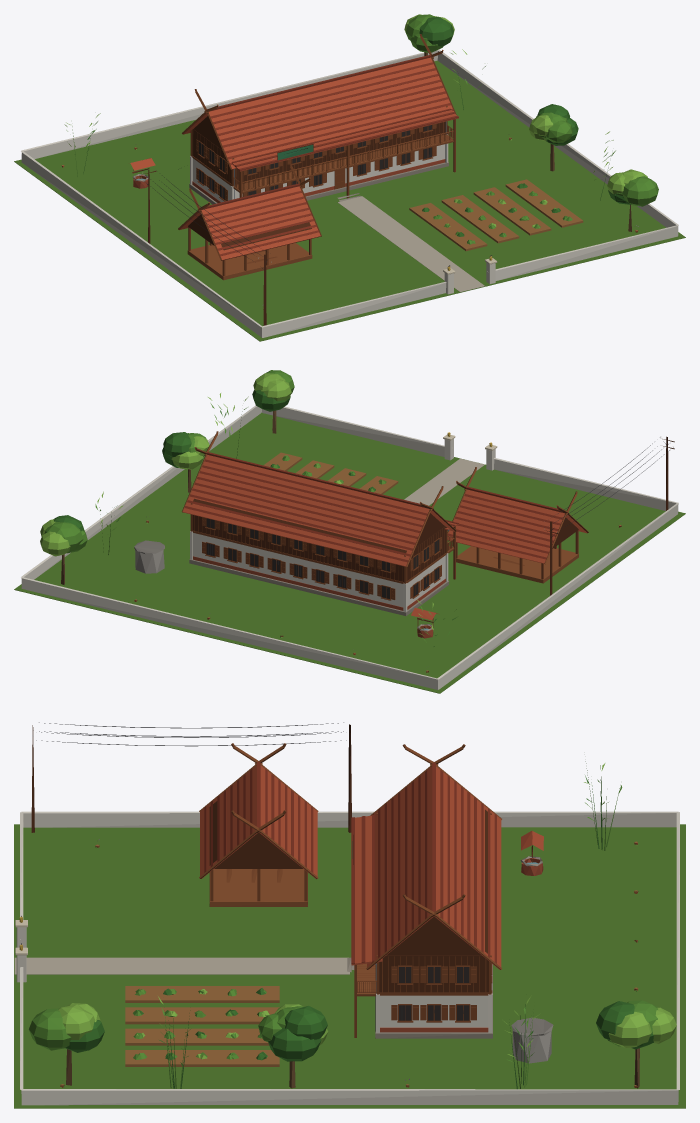
The model's file is hospital.glb.
3 renders of one model, top to bottom at view 1: azimuth 30°, elevation 25°; view 2: azimuth 150°, elevation 25°; view 3: azimuth 270°, elevation 25°, orthographic. The views are drawn at different scales.
Parts seen in each view (by area): view 1: body, windows; view 2: body, windows; view 3: body, windows.
Part boxes in pixels (x1,y1,x2,y2): body: (14, 14, 685, 341); windows: (199, 125, 492, 270); body: (14, 370, 685, 693); windows: (206, 432, 492, 598); body: (14, 722, 685, 1108); windows: (19, 916, 469, 1020).
Size of the model in its own units: 47.9 by 11.83 by 47.9.
